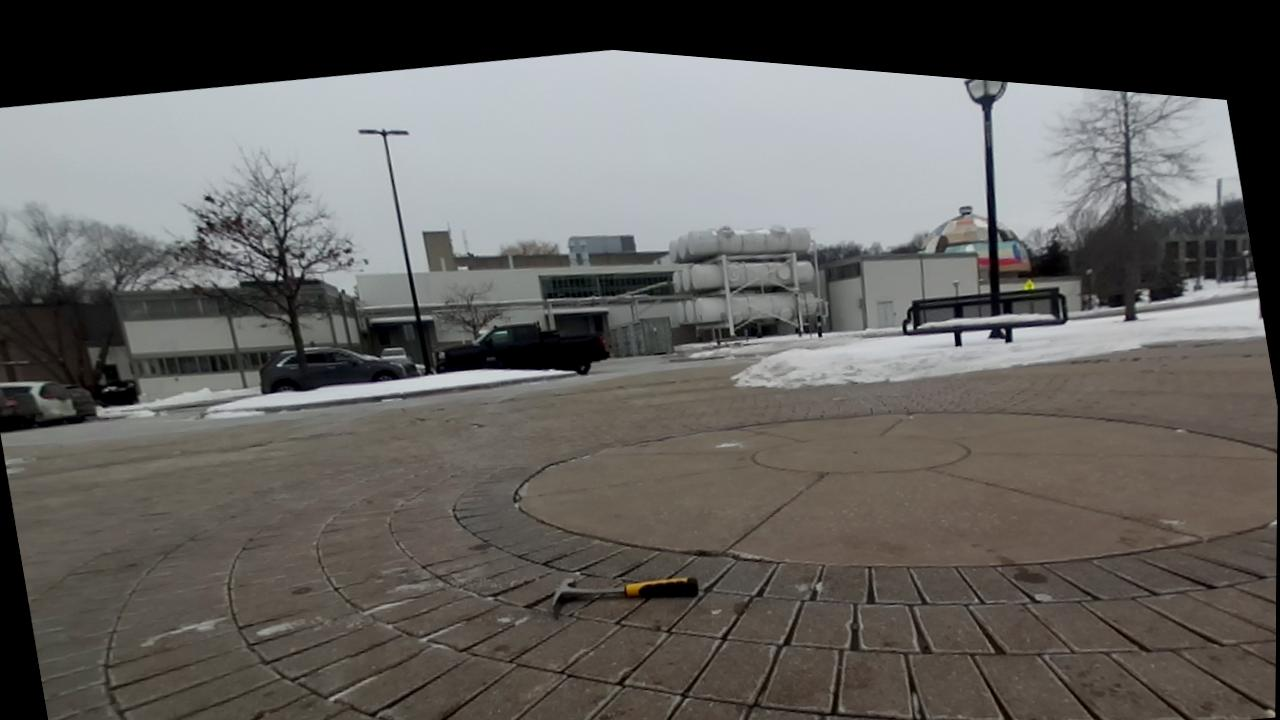pick: (551, 577, 698, 617)
